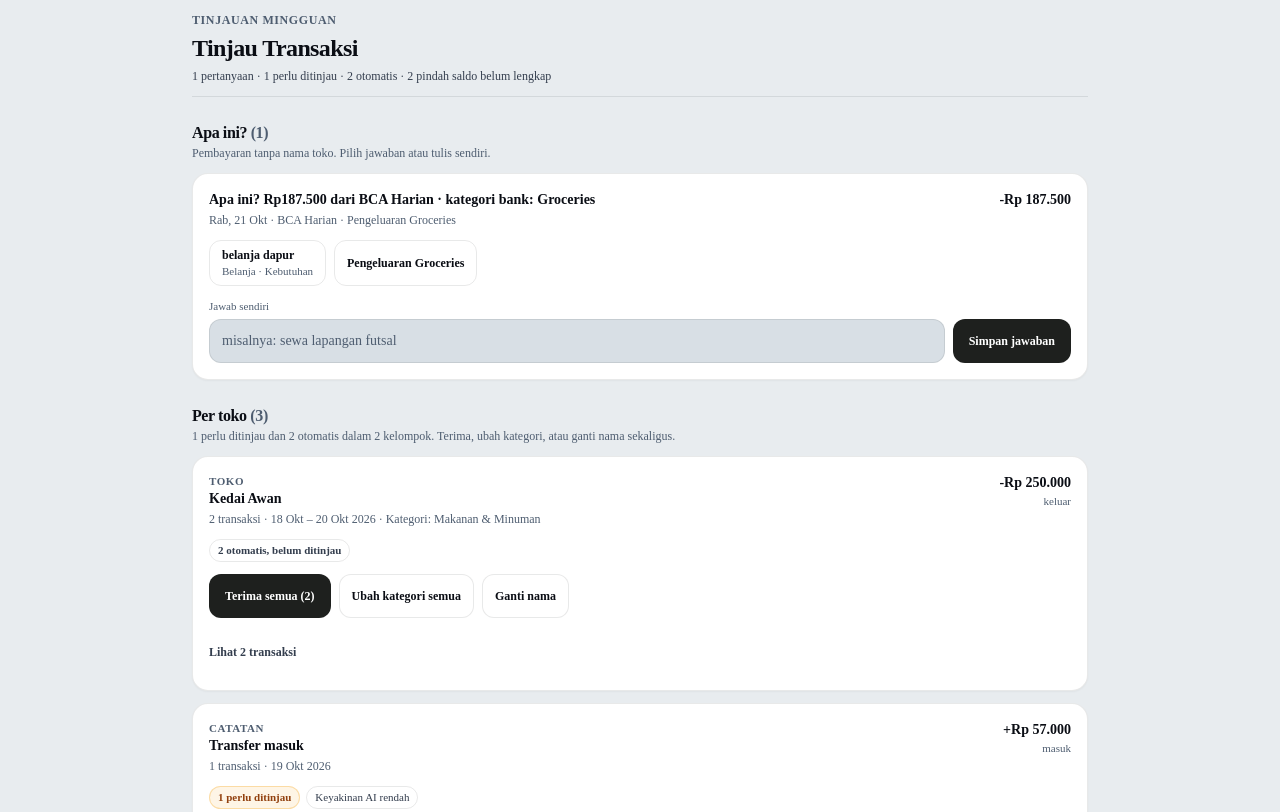
Test case: review page › reports a failed group action without claiming success
Click the button "Terima semua (2)". click: (270, 596)
box: [209,574,330,618]
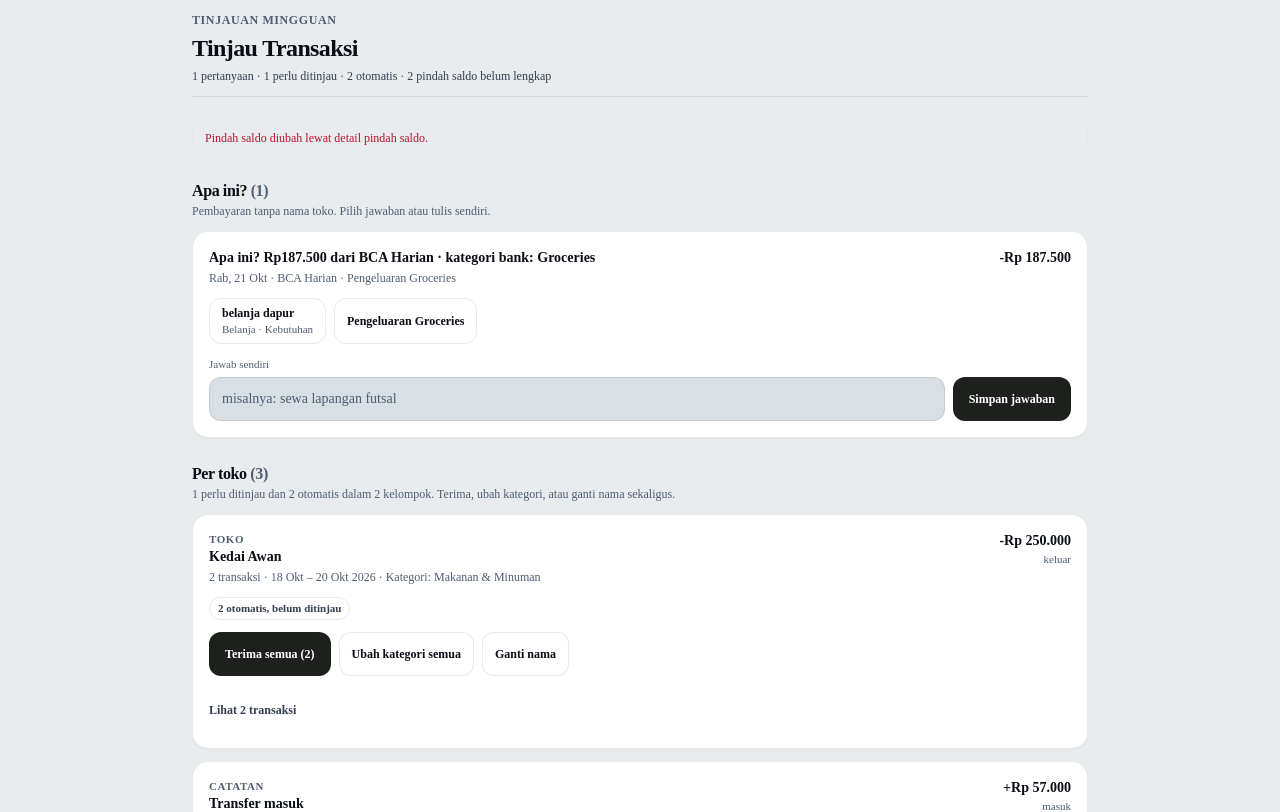
Check: the message reads "Pindah saldo diubah lewat detail pindah saldo.", box [205,131,428,145]
